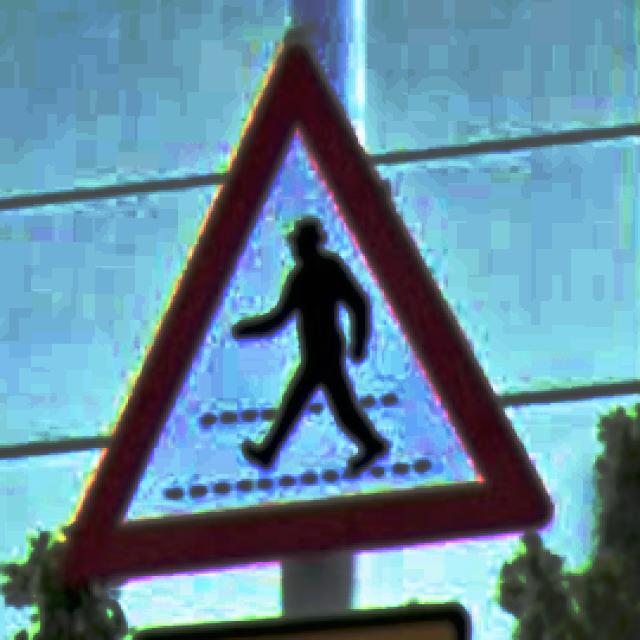pedestriancross: (64, 45, 550, 585)
